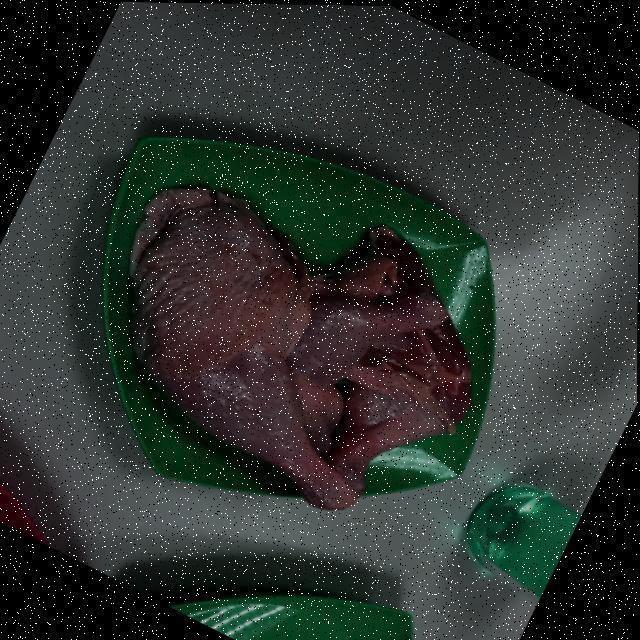quater: (157, 207, 353, 539), (313, 284, 440, 434)
